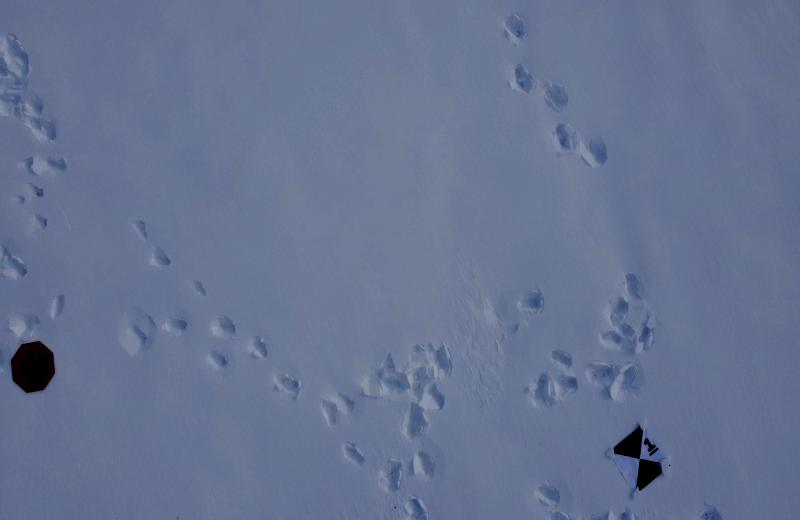Octagon: (11, 341, 58, 394)
